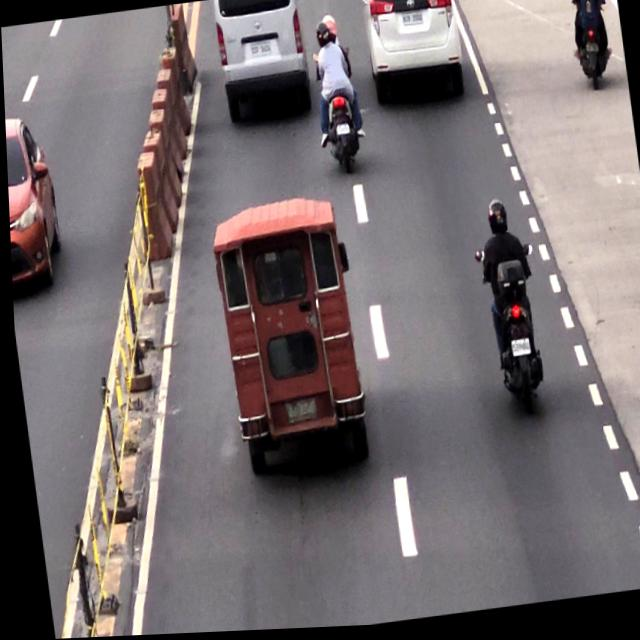Car: (211, 0, 313, 132), (362, 0, 461, 103)
Jeep: (205, 200, 365, 474)
License-Plate: (280, 400, 316, 427), (504, 339, 529, 364), (401, 13, 424, 31), (248, 44, 272, 59)
Motorcycle: (472, 202, 544, 422), (310, 14, 364, 166)
